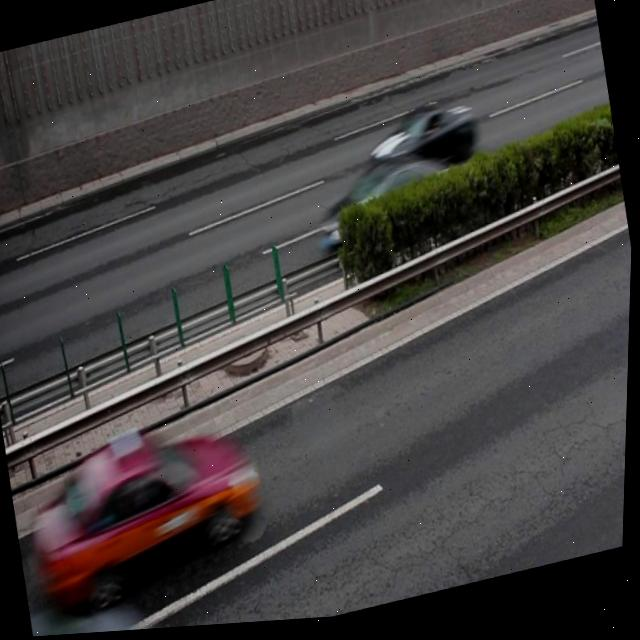car: (21, 403, 274, 616), (312, 148, 467, 272), (362, 99, 482, 192), (31, 578, 172, 638)
